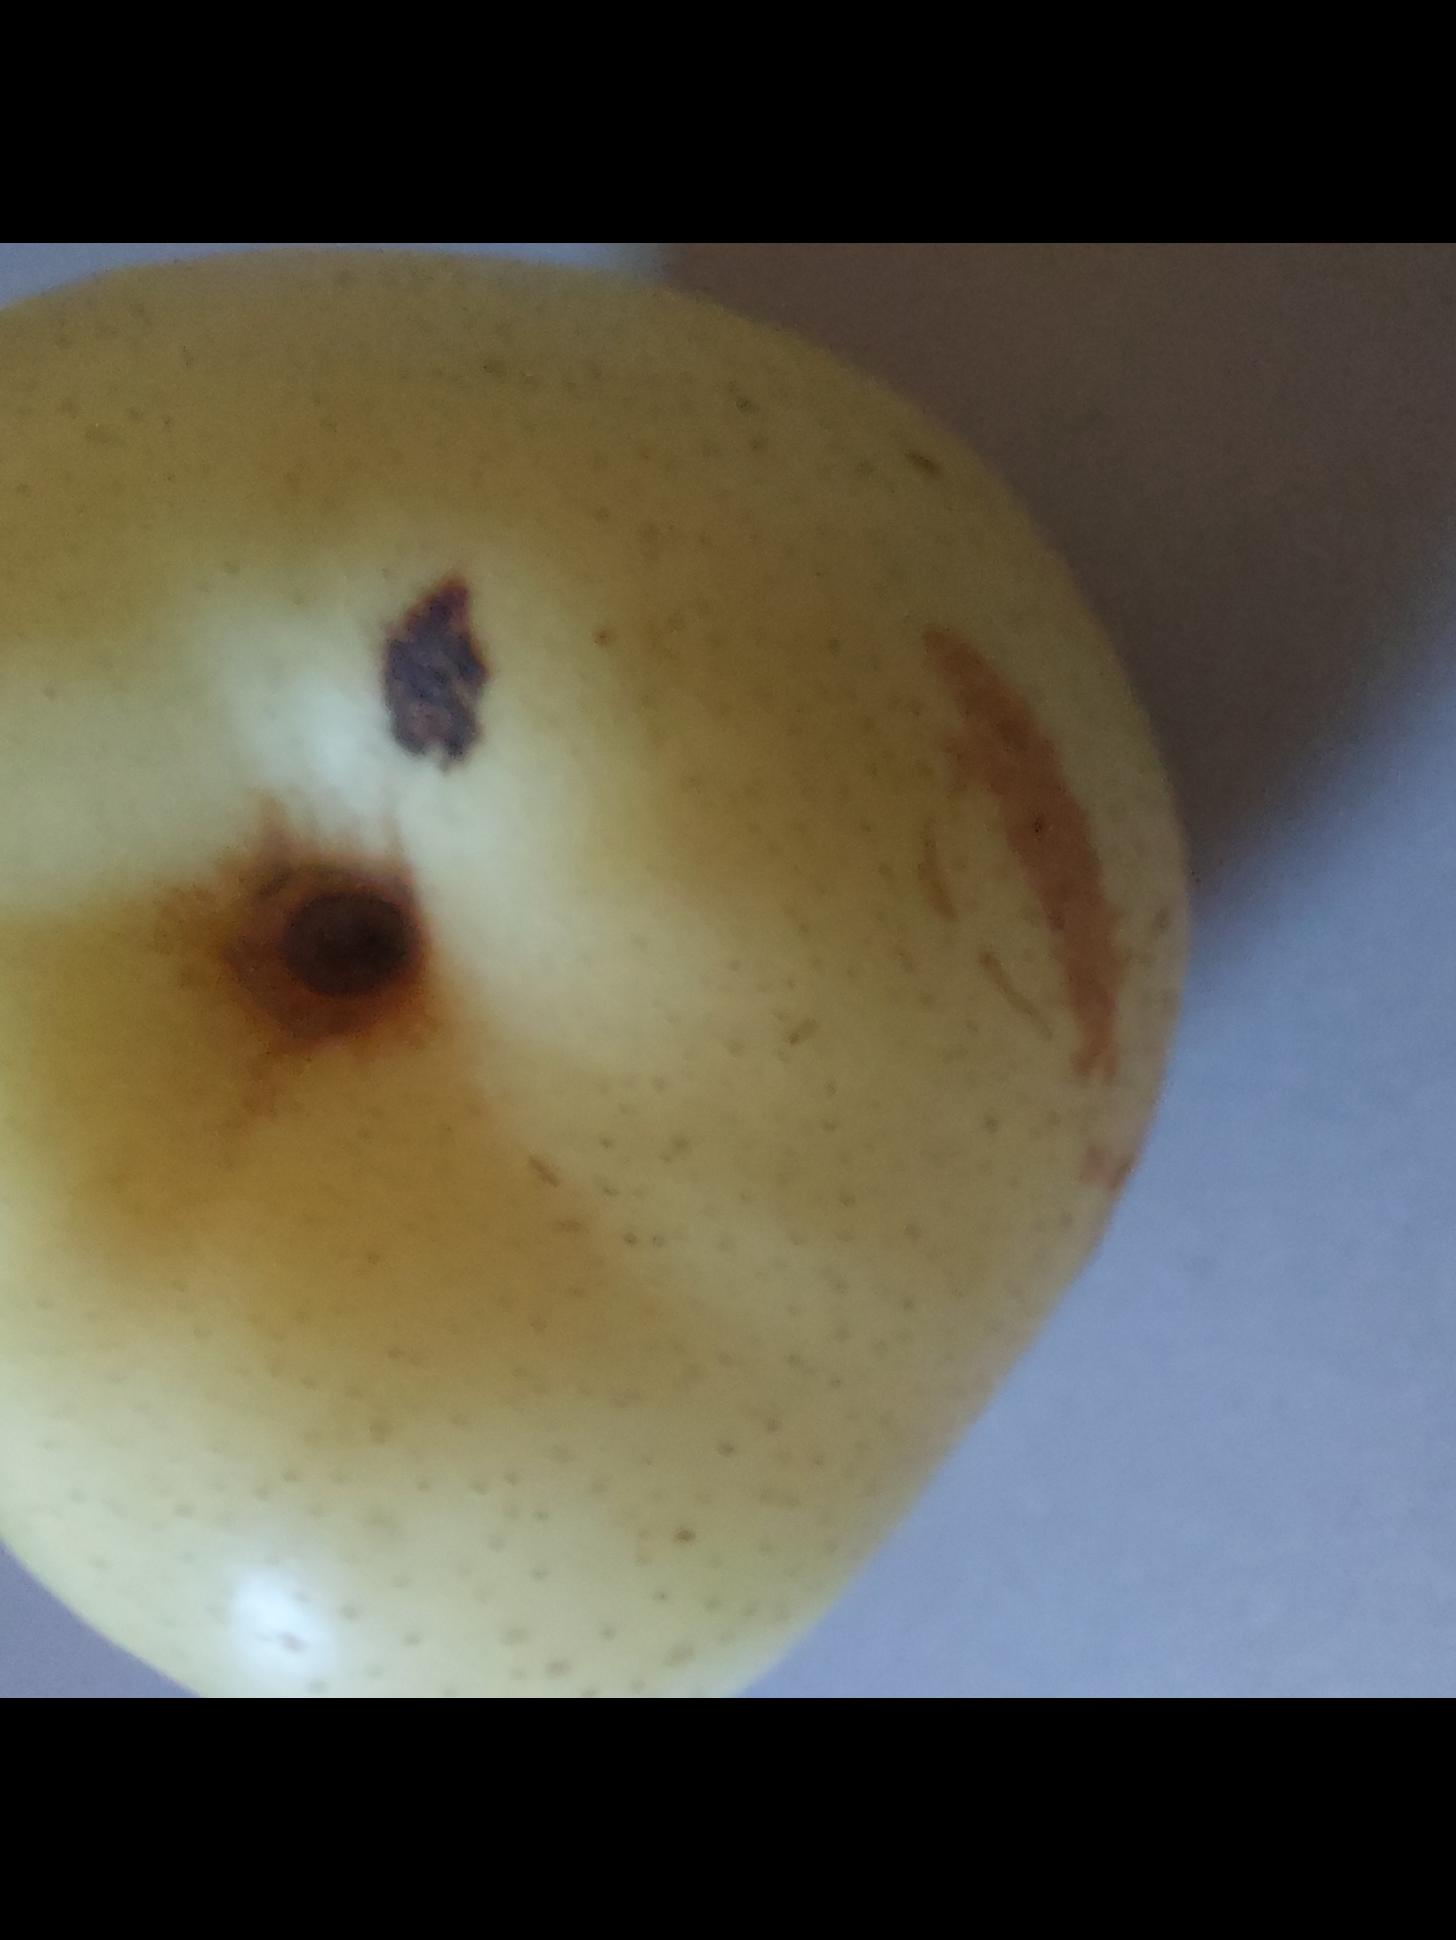Good Pear: (0, 242, 1292, 1698)
